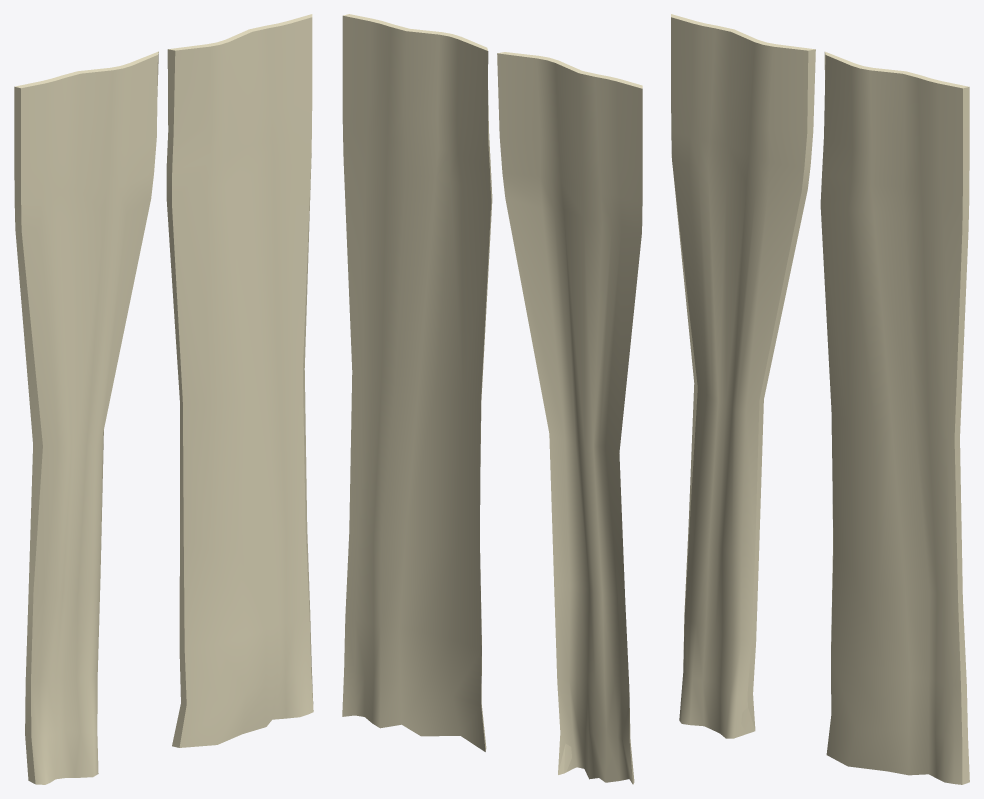
Rendered from curtain 1.FBX.
3 renders of one model, left to right at view 1: azimuth 30°, elevation 25°; view 2: azimuth 150°, elevation 25°; view 3: azimuth 330°, elevation 25°, orthographic.
Visible parts, largest first — view 1: Plane001; view 2: Plane001; view 3: Plane001.
Boxes of the visible parts, x1,y1,x2,y2 form: Plane001: [14, 14, 313, 784]; Plane001: [342, 14, 642, 784]; Plane001: [671, 14, 969, 784].
Size of the model in its own units: 38.45 by 3.75 by 86.44.
